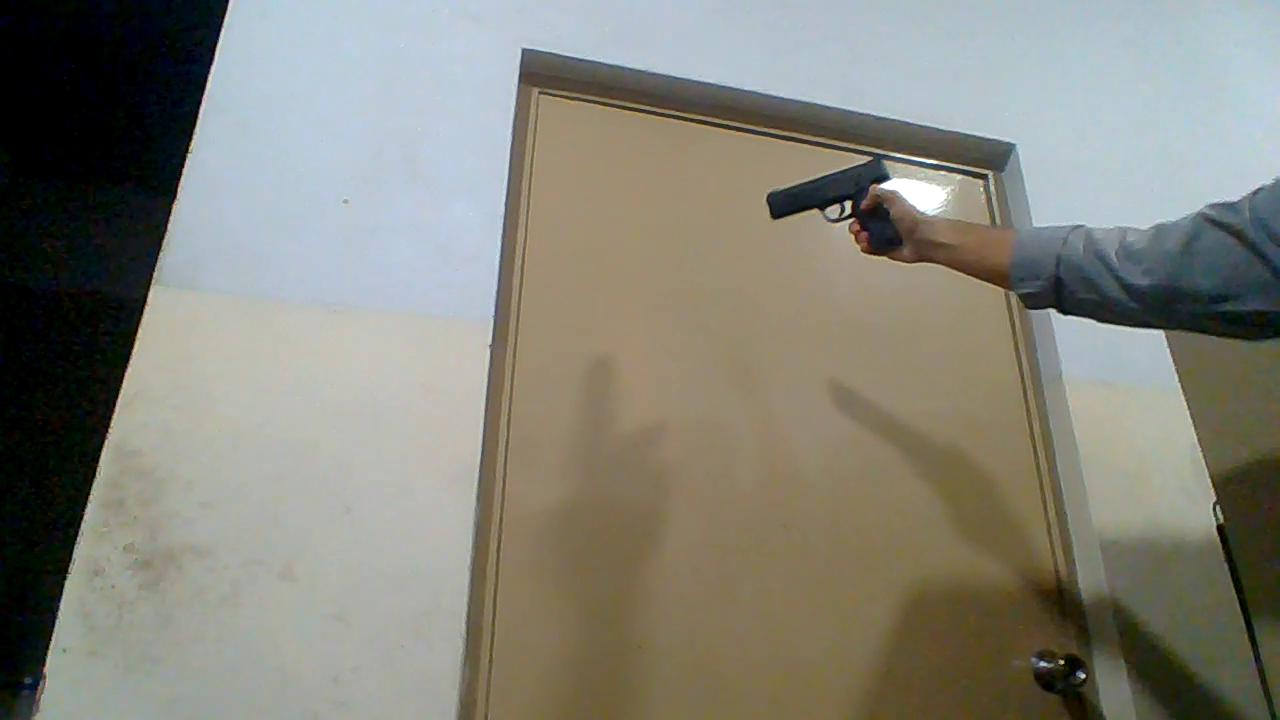weapon: (762, 157, 906, 252)
